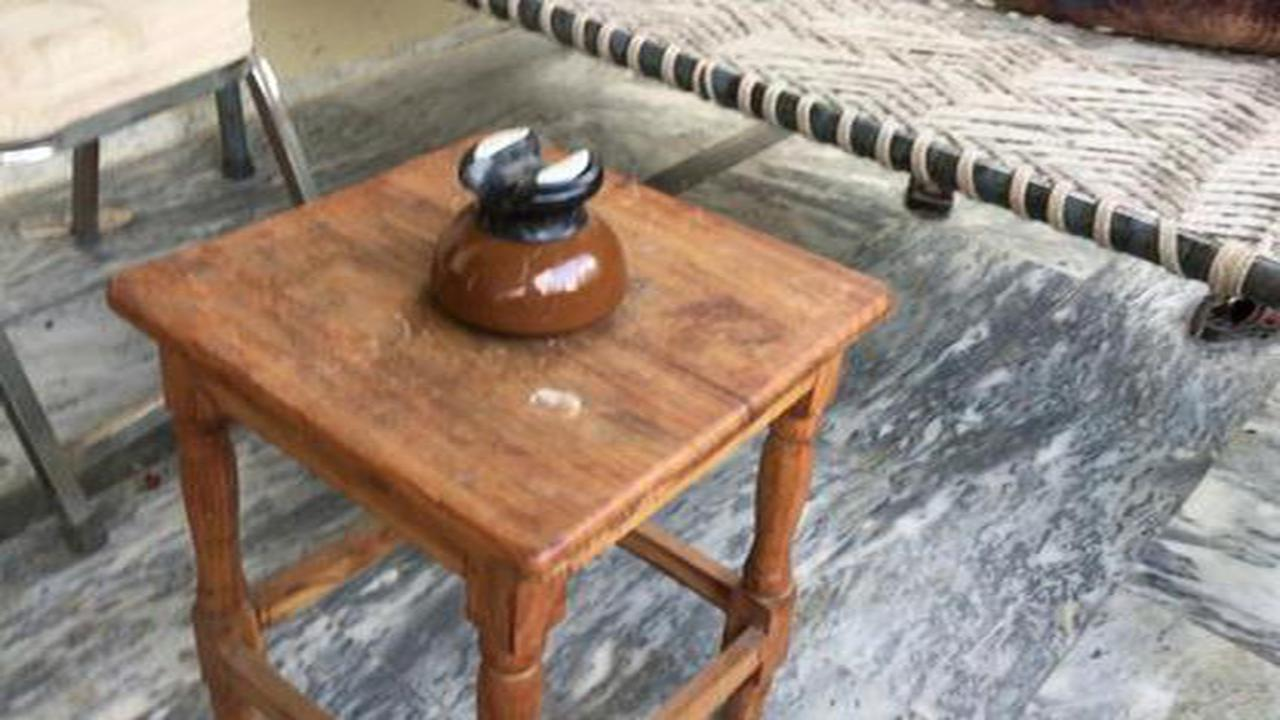insulator_pin: (413, 111, 653, 350)
